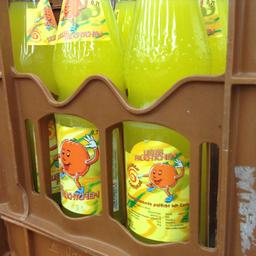soda: (122, 0, 210, 248), (49, 1, 130, 217), (8, 0, 54, 197)
